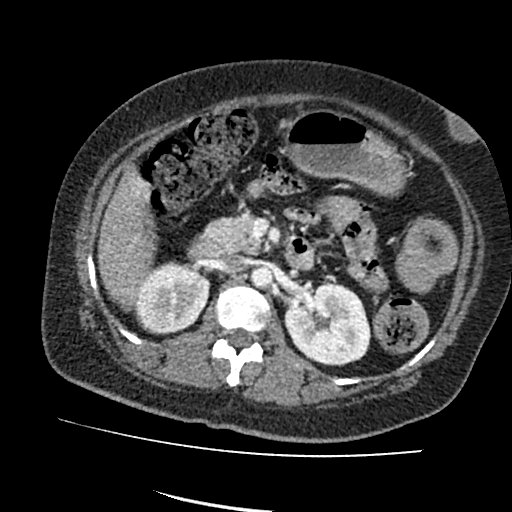aorta: (250, 265, 274, 290)
